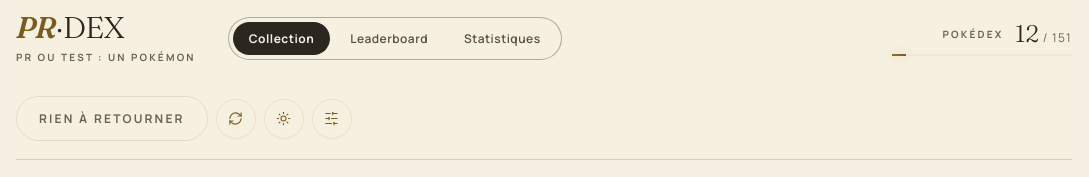
Test: TheRail › anti-spam › désactive le bouton pendant le cooldown, même si syncing redevient false
The image size is (1089, 177).
Click the button with class "sync": [236, 118] box 216,98 -> 256,138
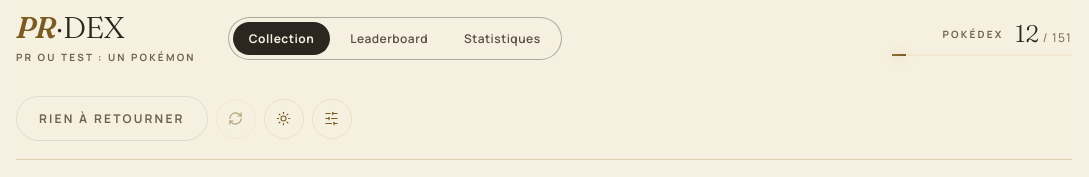
Now the button with class "sync" is disabled, box 216,98 -> 256,138
